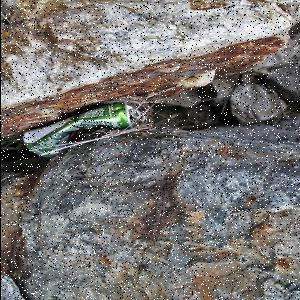Can: (22, 102, 150, 159)
